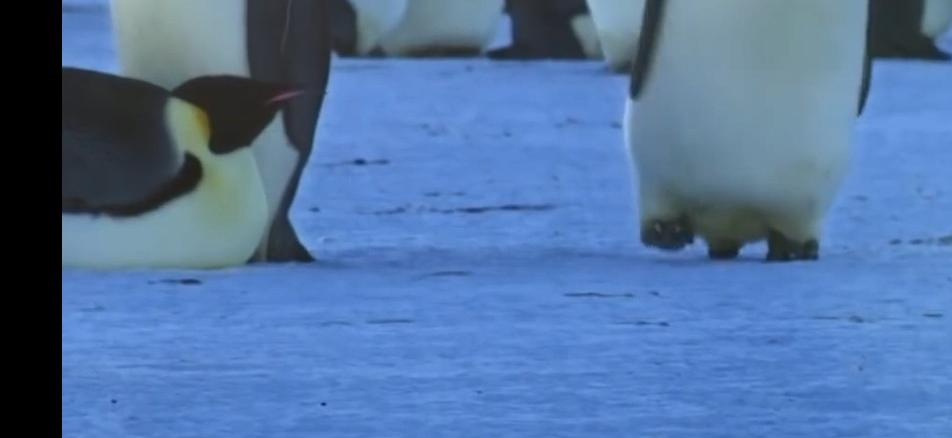Emperor Penguin: (623, 0, 886, 271), (66, 47, 332, 282), (412, 0, 540, 96), (596, 0, 694, 106), (89, 0, 340, 25), (312, 0, 436, 50)
